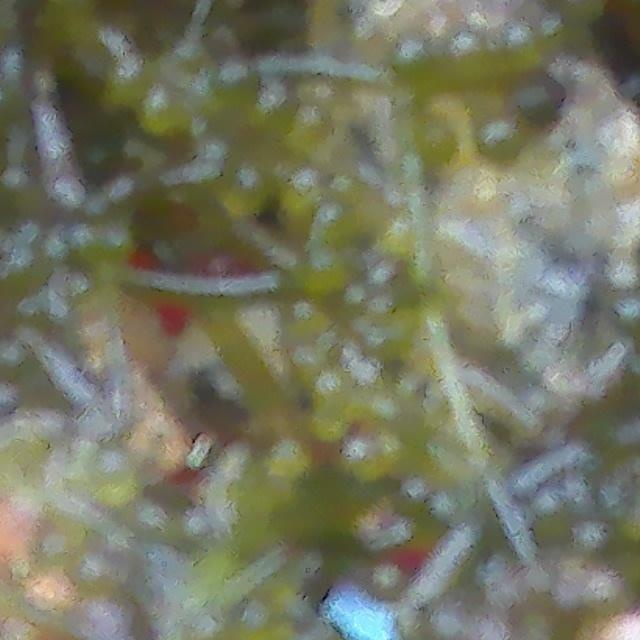SeaGrape: (440, 31, 493, 86), (277, 164, 326, 217), (204, 59, 257, 107), (512, 75, 564, 123), (390, 37, 439, 87), (137, 86, 188, 132), (501, 20, 548, 69), (221, 168, 266, 219), (314, 200, 360, 249), (595, 111, 640, 160), (109, 51, 153, 100), (478, 122, 523, 168), (255, 86, 299, 133), (292, 102, 330, 149), (299, 255, 346, 293), (418, 125, 454, 169), (362, 0, 405, 21)
